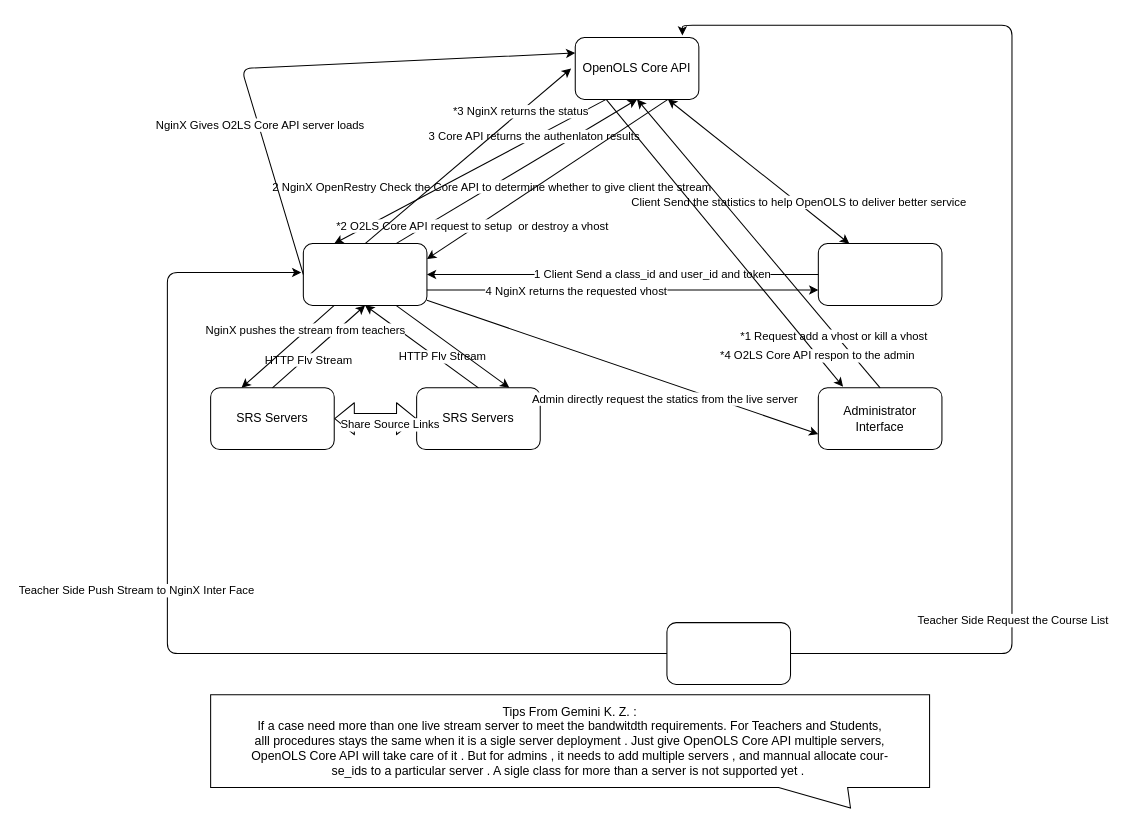
This 1126x826 diagram has some shape labels left out. The shapes that lost their labels are listed below. From the top down, each one's centre as x and y in pixels, then its label:
the point at 364,274: Live Server Interface NginX
the point at 879,274: Client Side Interface
the point at 728,653: Teacher Side Interface
